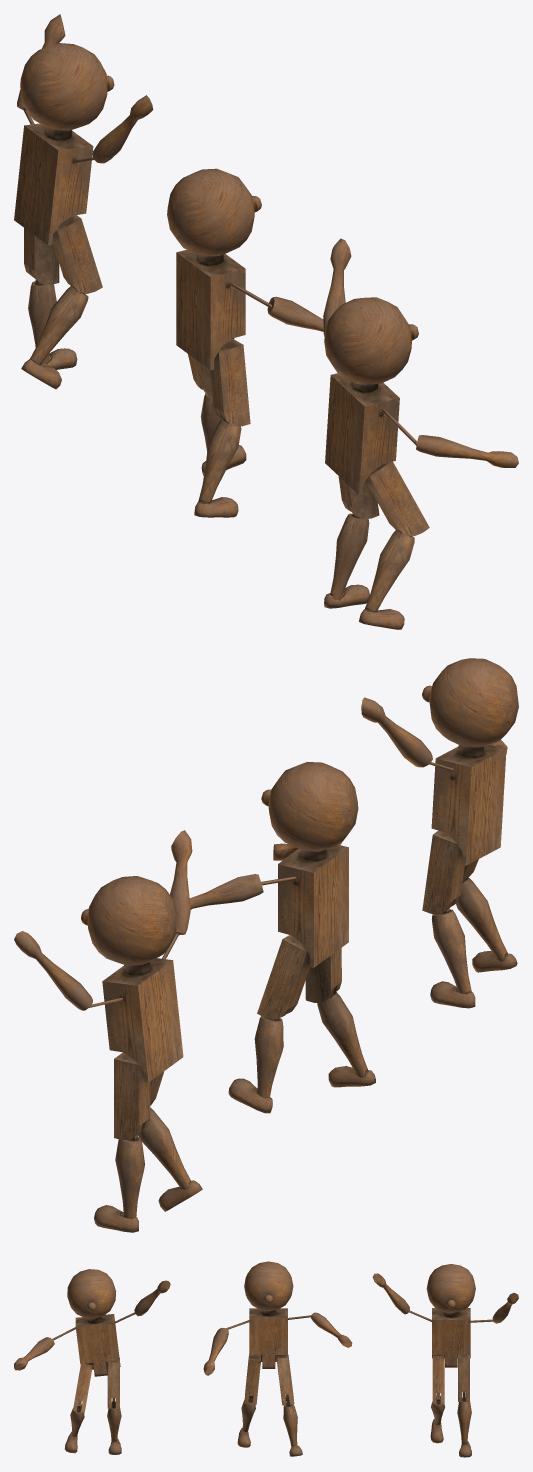
Rendered from woodToy4.fbx.
3 views of the same model, one above another, from view 1: azimuth 30°, elevation 25°; view 2: azimuth 150°, elevation 25°; view 3: azimuth 270°, elevation 25° (orthographic). The views are drawn at different scales.
Visible parts, largest first — view 1: Cylinder.003, Cylinder.006, Cube.014, Cube.029, Cube.001, Cylinder.004, Cube.042, Cube.028, Cube.027, Cube.023, Cube.038, Cube.010 (+11 smaller); view 2: Cylinder.003, Cylinder.004, Cylinder.006, Cube.014, Cube.001, Cube.029, Cube.036, Cube.021, Cube.008, Cube.003, Cube.038, Cube.031 (+14 smaller); view 3: Cylinder.004, Cube.029, Cube.001, Cube.014, Cylinder.006, Cylinder.003, Cube.042, Cube.036, Cube.027, Cube.008, Cube.028, Cube.021 (+13 smaller).
Part boxes in pixels (x1,y1,x2,y2): Cylinder.003: [14, 123, 93, 245]; Cylinder.006: [176, 249, 245, 370]; Cube.014: [20, 43, 107, 140]; Cube.029: [167, 168, 254, 265]; Cube.001: [324, 297, 411, 392]; Cylinder.004: [325, 373, 399, 494]; Cube.042: [210, 339, 250, 426]; Cube.028: [366, 461, 429, 536]; Cube.027: [52, 215, 102, 293]; Cube.023: [30, 286, 88, 364]; Cube.038: [198, 419, 241, 503]; Cube.010: [364, 530, 414, 611]; Cylinder.003: [102, 958, 183, 1082]; Cylinder.004: [431, 744, 506, 865]; Cylinder.006: [278, 844, 348, 967]; Cube.014: [87, 876, 176, 975]; Cube.001: [429, 658, 518, 757]; Cube.029: [268, 762, 358, 860]; Cube.036: [257, 935, 309, 1019]; Cube.021: [114, 1052, 150, 1139]; Cube.008: [422, 830, 464, 914]; Cube.003: [432, 908, 471, 993]; Cube.038: [317, 992, 368, 1076]; Cube.031: [254, 1016, 283, 1097]; Cylinder.004: [75, 1314, 120, 1376]; Cube.029: [244, 1261, 293, 1316]; Cube.001: [67, 1269, 116, 1323]; Cube.014: [426, 1264, 475, 1317]; Cylinder.006: [249, 1308, 287, 1368]; Cylinder.003: [432, 1308, 470, 1367]; Cube.042: [244, 1354, 260, 1404]; Cube.036: [276, 1354, 294, 1405]; Cube.027: [432, 1355, 444, 1403]; Cube.008: [107, 1358, 119, 1408]; Cube.028: [73, 1364, 92, 1412]; Cube.021: [458, 1355, 469, 1401].
Bounding box in the file's own units: 300 × 705 × 1720.
1 material, 1 textured.
